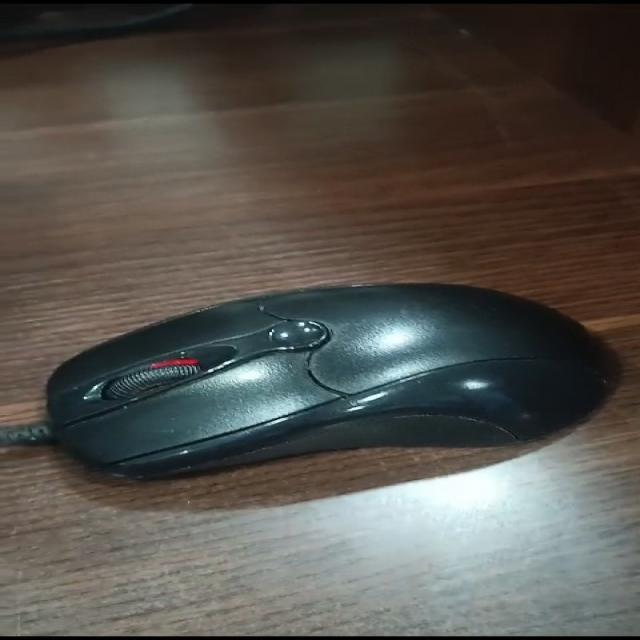Mouse: (11, 256, 640, 508)
